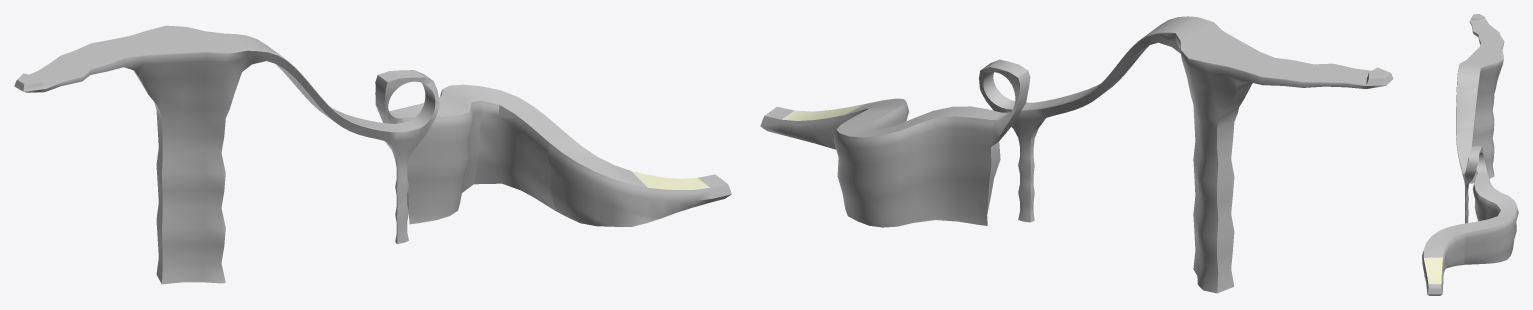
File: Chunk10.obj
The picture shows the model from 3 angles, left to right: view 1: azimuth 30°, elevation 25°; view 2: azimuth 150°, elevation 25°; view 3: azimuth 270°, elevation 25°; orthographic projection. The views are drawn at different scales.
Size of the model in its own units: 1672 by 584 by 422.
